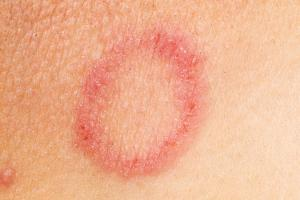annular lichen planus: (65, 20, 244, 182)
